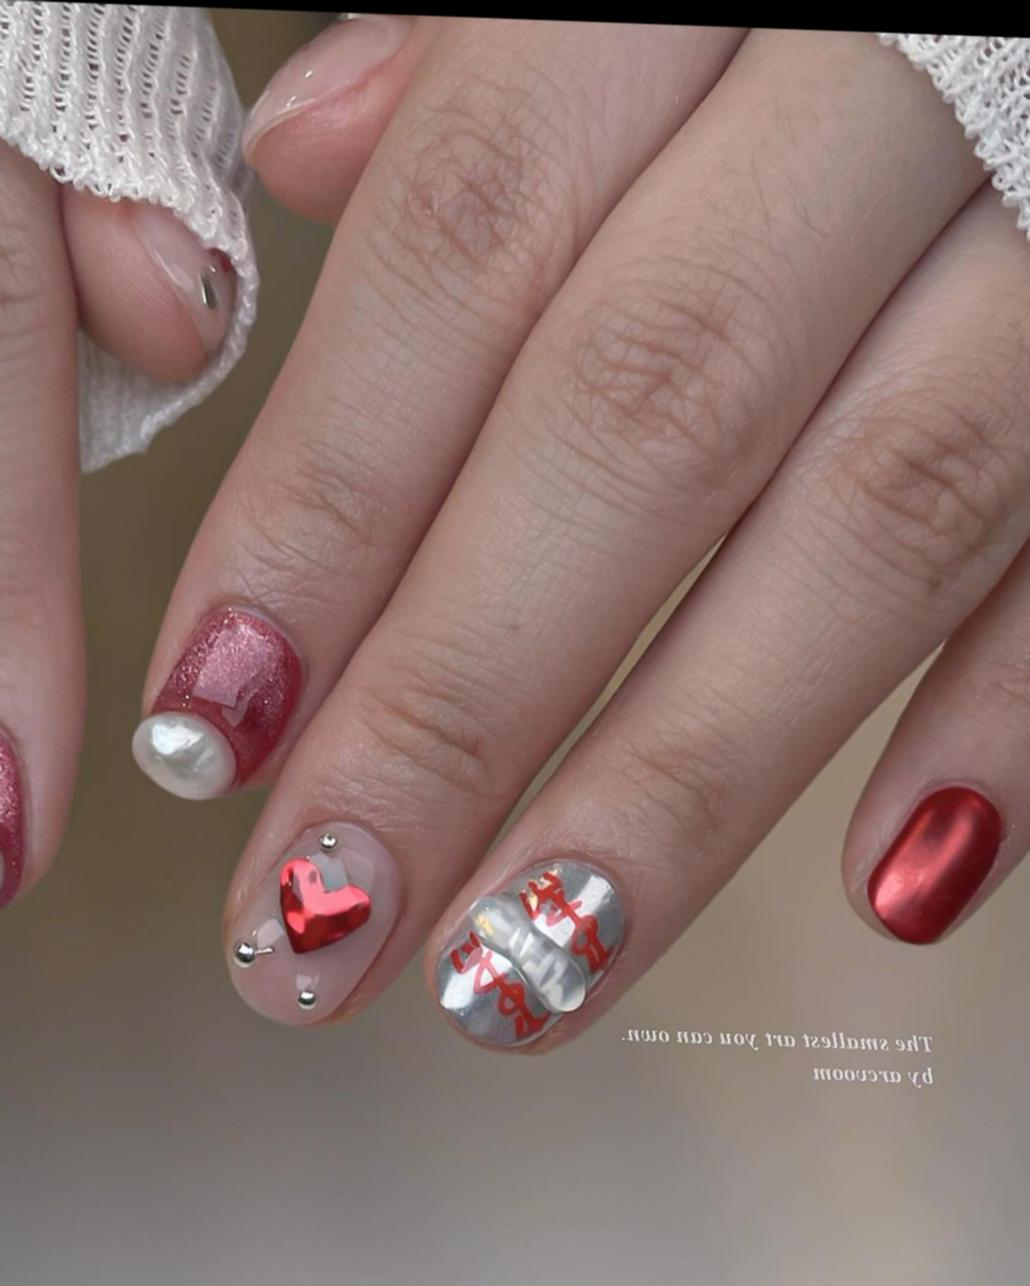nail: (433, 849, 630, 1054), (228, 813, 404, 1028), (131, 599, 307, 806), (866, 779, 1007, 949), (128, 194, 239, 358), (0, 718, 30, 913)
